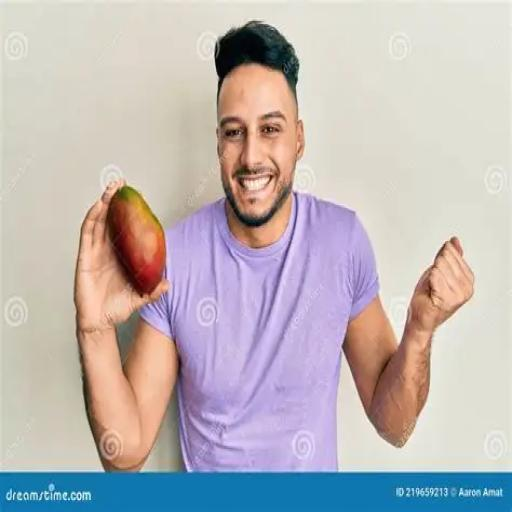mango: (106, 186, 166, 294)
